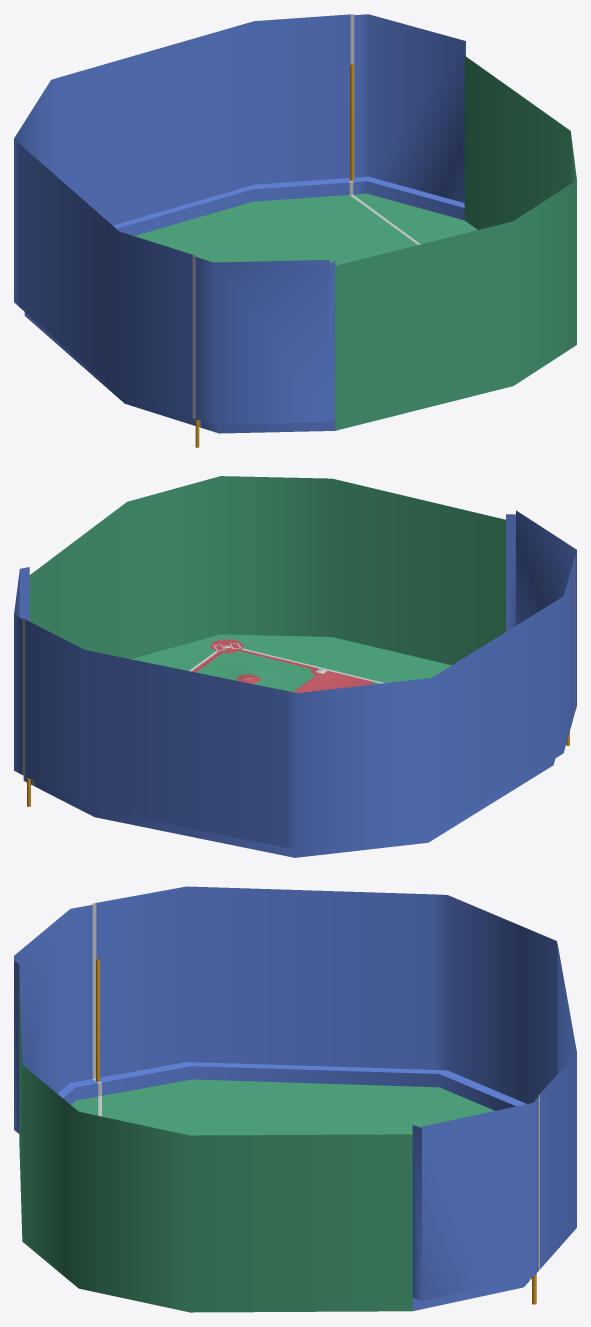
Rendered from Test_Field 1.fbx.
3 renders of one model, top to bottom at view 1: azimuth 30°, elevation 25°; view 2: azimuth 150°, elevation 25°; view 3: azimuth 270°, elevation 25°, orthographic. The views are drawn at different scales.
Visible parts, largest first — view 1: Foul Fly, Home run, Field, Wall, Foul Territory, Foul Pole; view 2: Home run, Foul Fly, Foul Territory, Field, Wall; view 3: Foul Fly, Home run, Field, Wall, Foul Territory, Foul Pole.
Boxes of the visible parts, <box> form: Foul Fly: <box>195,14,576,430</box>; Home run: <box>14,14,354,418</box>; Field: <box>134,194,420,265</box>; Wall: <box>24,181,464,433</box>; Foul Territory: <box>353,176,477,244</box>; Foul Pole: <box>195,64,353,447</box>; Home run: <box>22,559,574,849</box>; Foul Fly: <box>14,476,576,774</box>; Foul Territory: <box>131,634,451,682</box>; Field: <box>189,648,384,692</box>; Wall: <box>23,758,555,857</box>; Foul Fly: <box>14,905,538,1312</box>; Home run: <box>92,886,576,1270</box>; Field: <box>98,1079,494,1135</box>; Wall: <box>63,1066,531,1310</box>; Foul Territory: <box>58,1079,98,1115</box>; Foul Pole: <box>96,959,536,1304</box>.
Size of the model in its own units: 40035 by 16458 by 39870.
